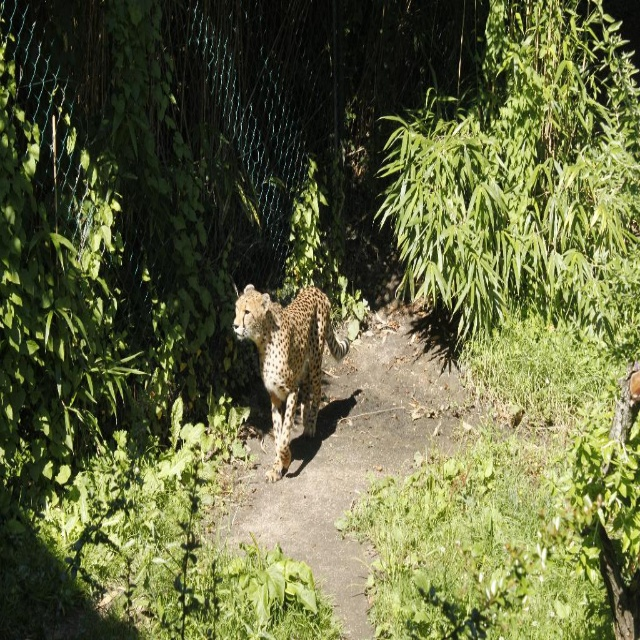Leopard: (230, 285, 351, 485)
